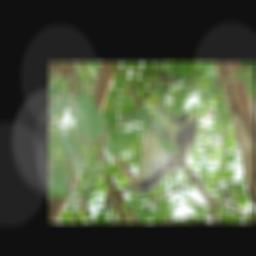Cuckoo: (120, 110, 200, 194)
